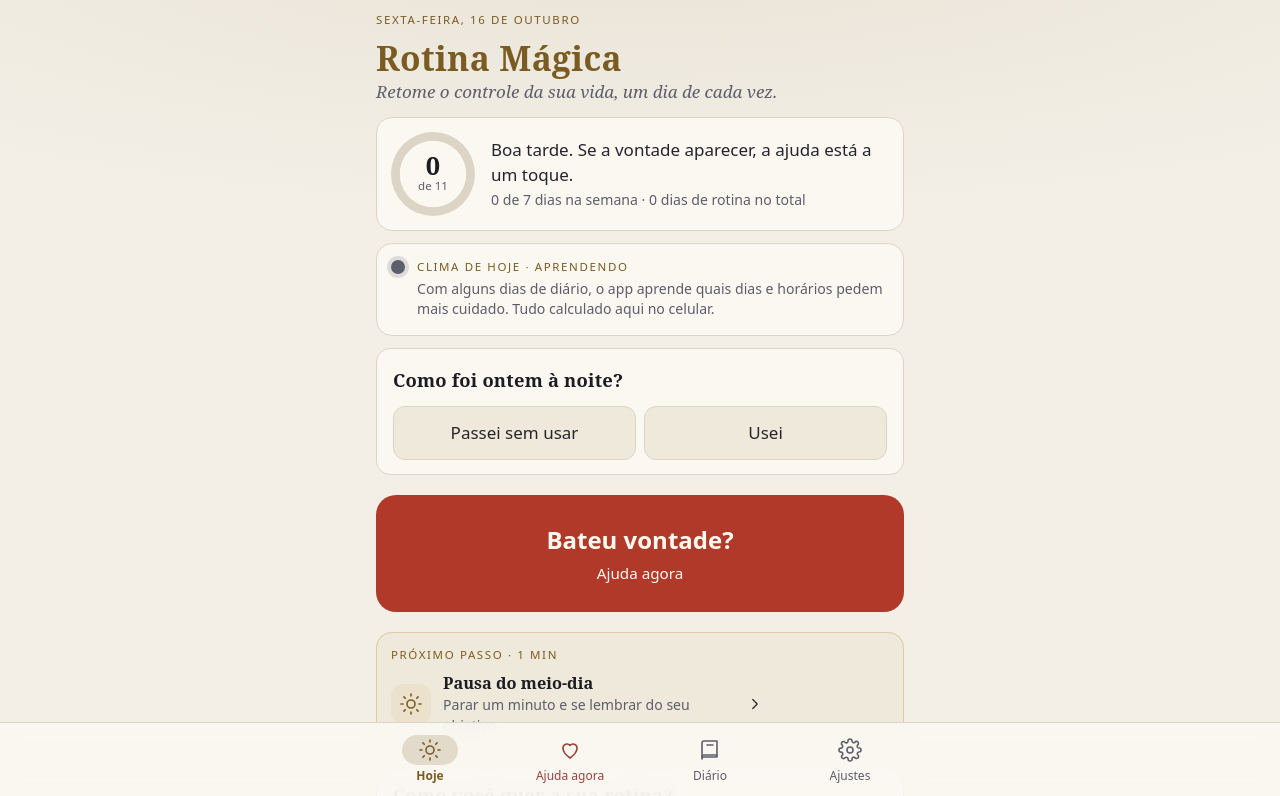
Test: manhã seguinte › pergunta como foi a noite e alimenta o laboratório
This screenshot has width=1280, height=796.
Click the button "Passei sem usar" at (514, 433), box [393,406,636,460]
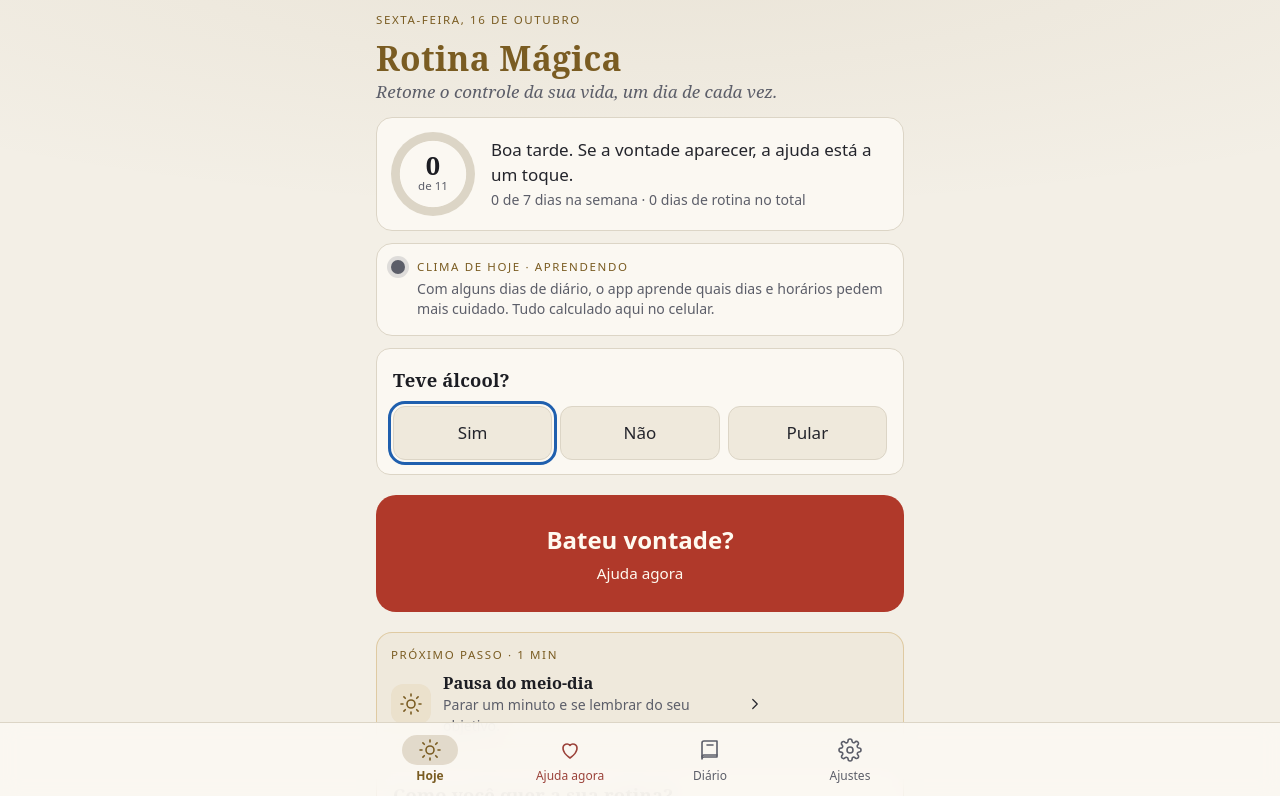
Click the button "Não" at (640, 433), box [560,406,720,460]
(page scrolled)
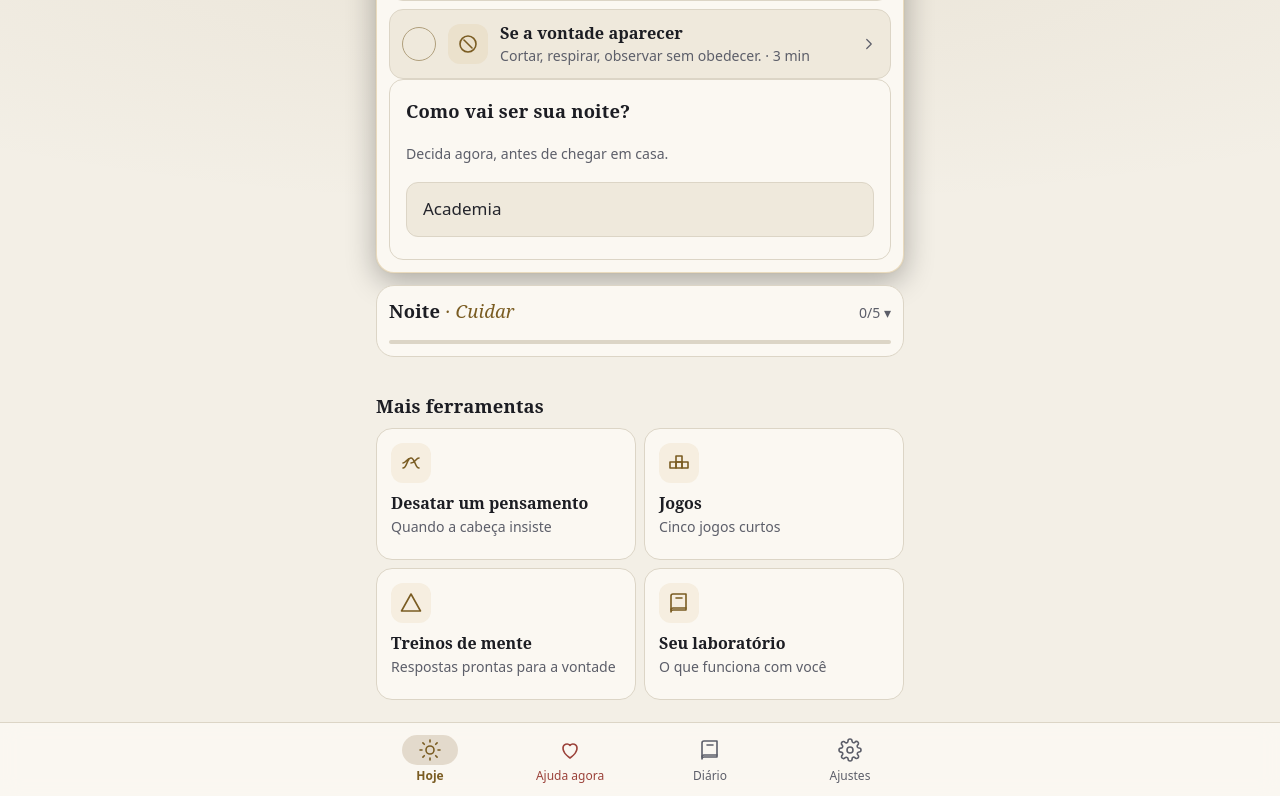
Click the button "Seu laboratório O que funciona com você" at (774, 634), box [644,568,904,700]
(page scrolled)
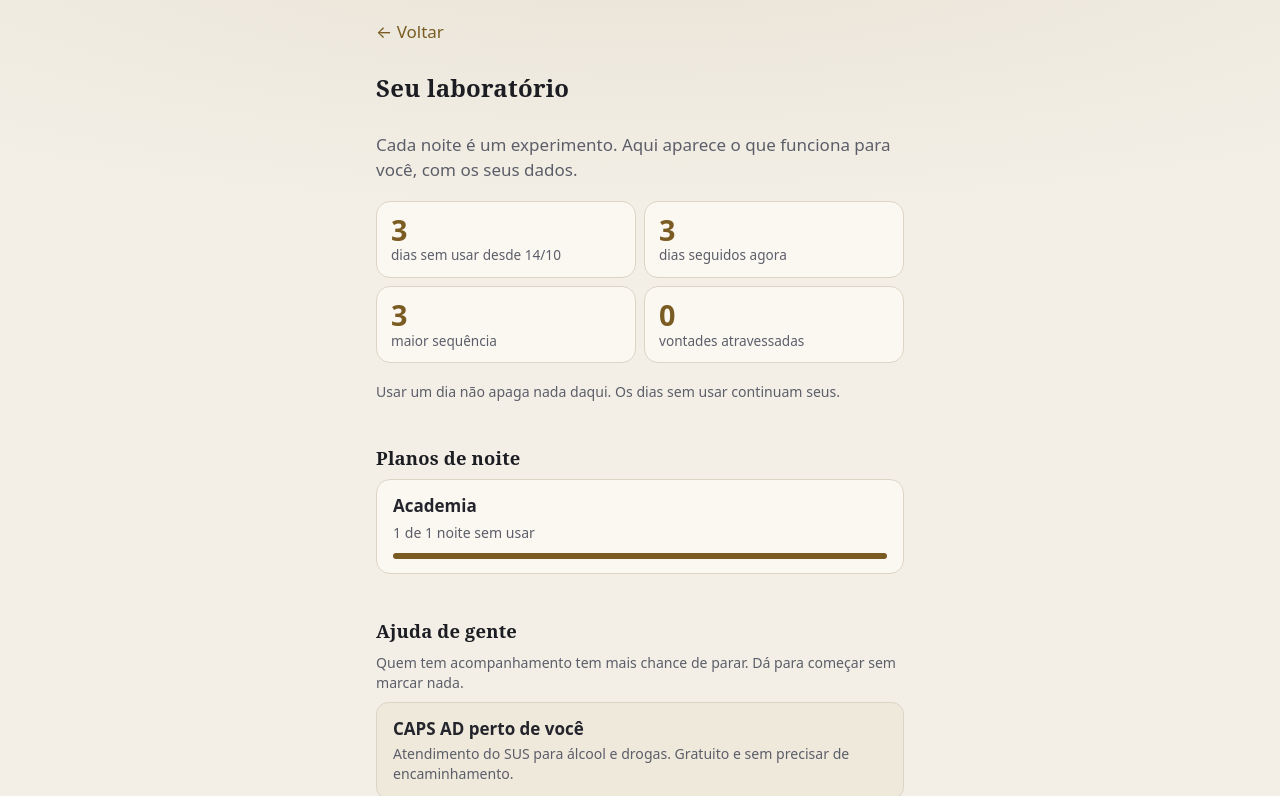
Now the text "1 de 1 noite sem usar" is shown, box [393,523,535,542]
